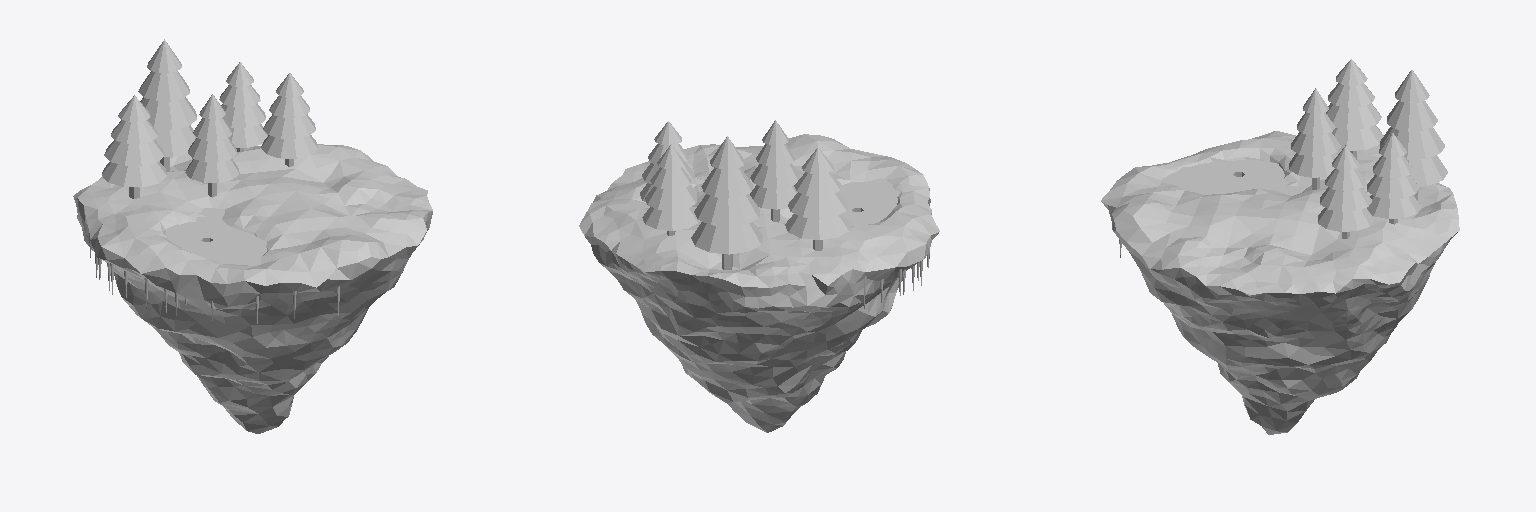
Rendered from icePallace.obj.
The picture shows the model from 3 angles: view 1: azimuth 30°, elevation 25°; view 2: azimuth 150°, elevation 25°; view 3: azimuth 270°, elevation 25°; orthographic projection.
Visible parts, largest first — view 1: Plane.001_Plane.002; view 2: Plane.001_Plane.002; view 3: Plane.001_Plane.002.
Boxes of the visible parts, box(x1,y1,x2,y2) form: Plane.001_Plane.002: box(73, 39, 432, 433); Plane.001_Plane.002: box(579, 120, 939, 432); Plane.001_Plane.002: box(1101, 59, 1459, 434).
Size of the model in its own units: 12.74 by 13.5 by 12.58.